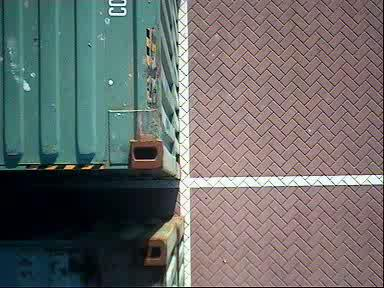groundmarker_2: (21, 137, 114, 288)
